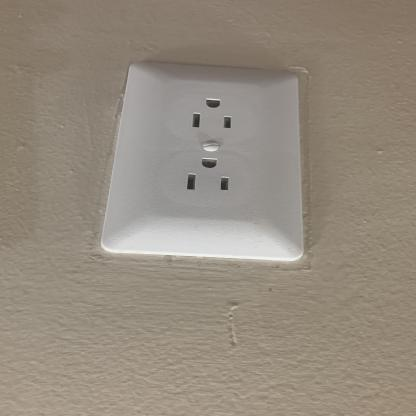OUTLET: (99, 62, 311, 264)
